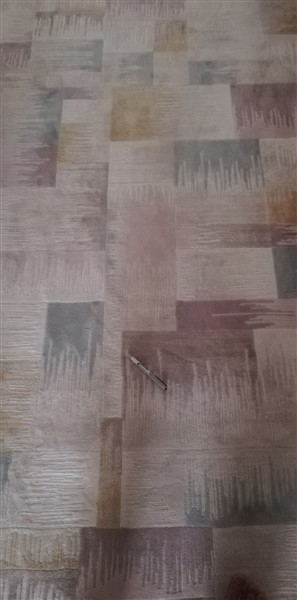pilot kalem: (123, 346, 171, 394)
